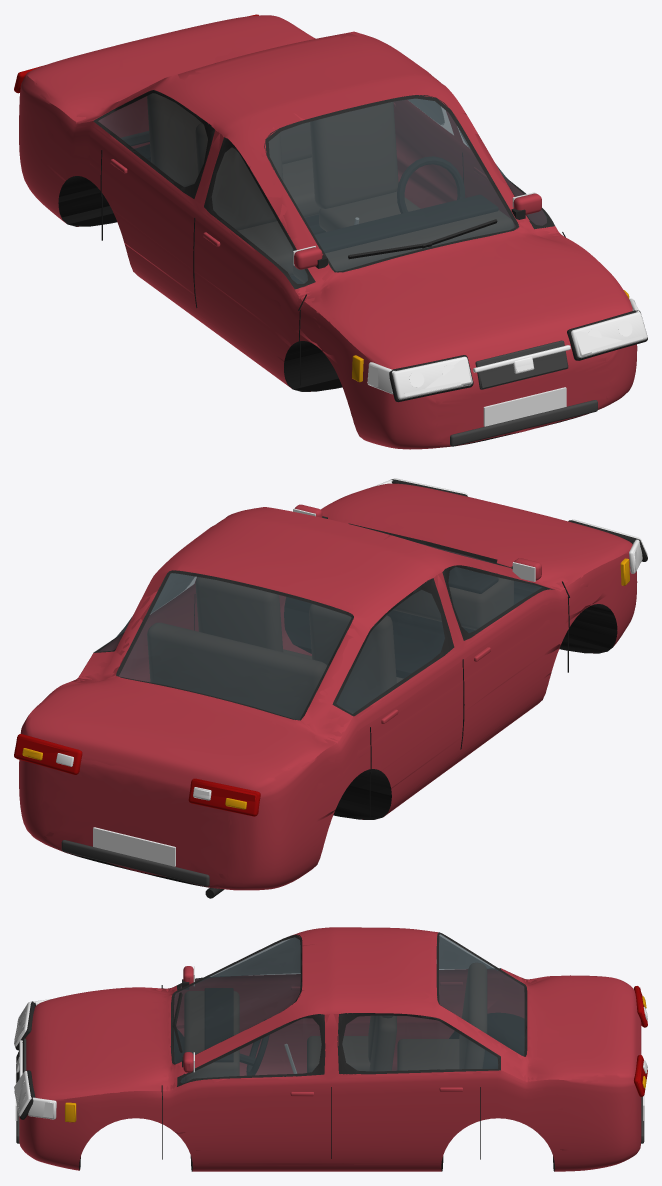
The model's file is granta.glb.
3 renders of one model, top to bottom at view 1: azimuth 30°, elevation 25°; view 2: azimuth 150°, elevation 25°; view 3: azimuth 270°, elevation 25°, orthographic. The views are drawn at different scales.
Parts seen in each view (by area): view 1: LOD_hi, LOD0; view 2: LOD_hi, LOD0; view 3: LOD_hi, LOD0.
Boxes of the visible parts, x1,y1,x2,y2 form: LOD_hi: [14, 14, 647, 449]; LOD0: [15, 14, 636, 443]; LOD_hi: [14, 478, 647, 898]; LOD0: [15, 479, 646, 897]; LOD_hi: [14, 927, 647, 1171]; LOD0: [14, 927, 647, 1170].
Size of what is drawn, in the model's own units: 1.74 by 1.3 by 4.34.
